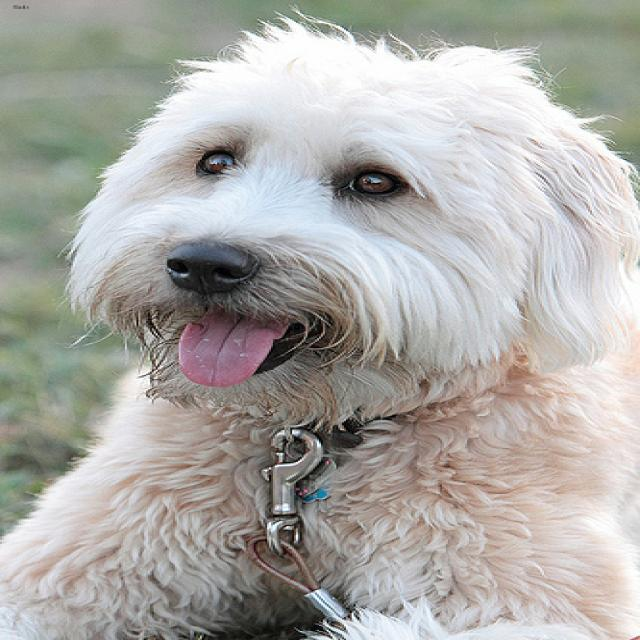dog-wheaten_terrier: (2, 1, 636, 637)
